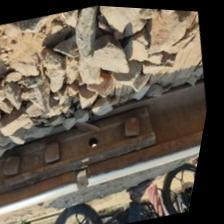person: (59, 153, 120, 202)
